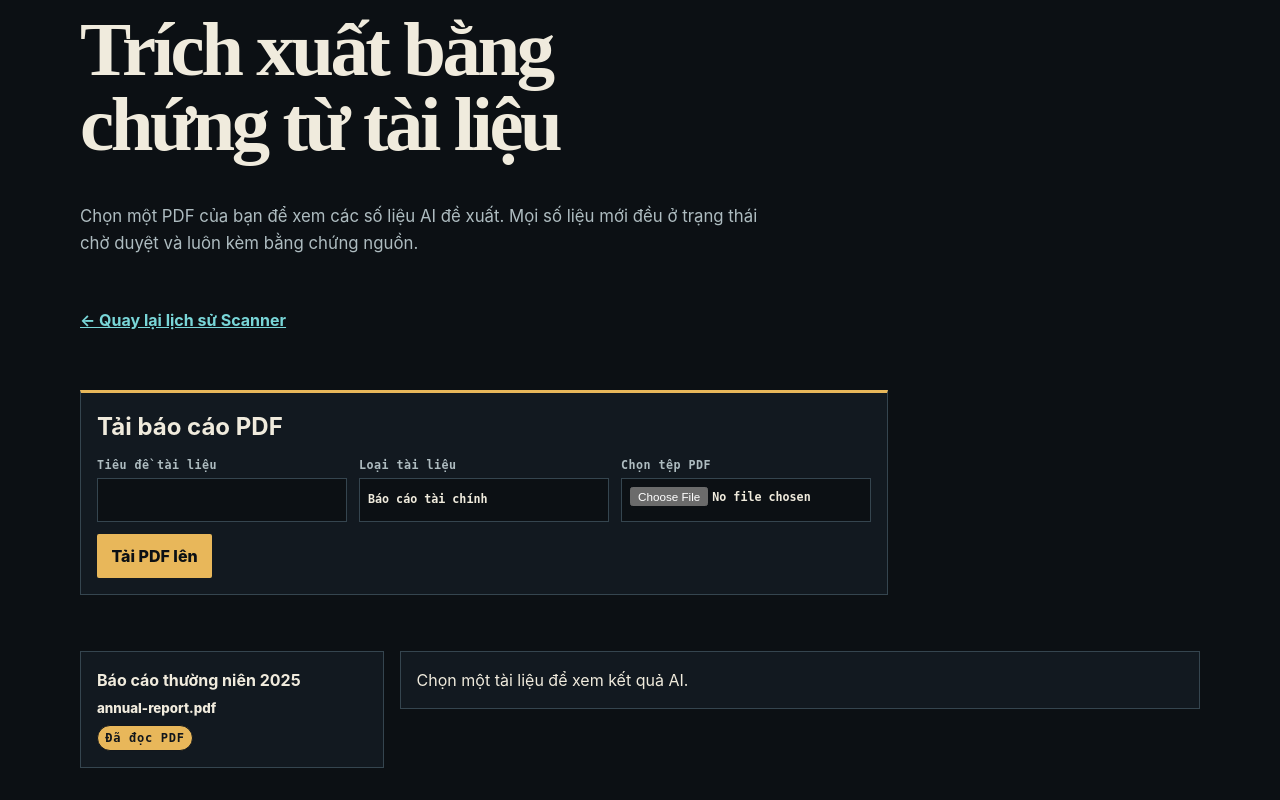
Scenario: DocumentExtractionPage › loads extracted facts while a parsed document awaits later indexing
(page scrolled)
Click the button "Báo cáo thường niên 2025 annual-report.pdf Đã đọc PDF" at (199, 680), box x1=80 y1=651 x2=384 y2=768
(page scrolled)
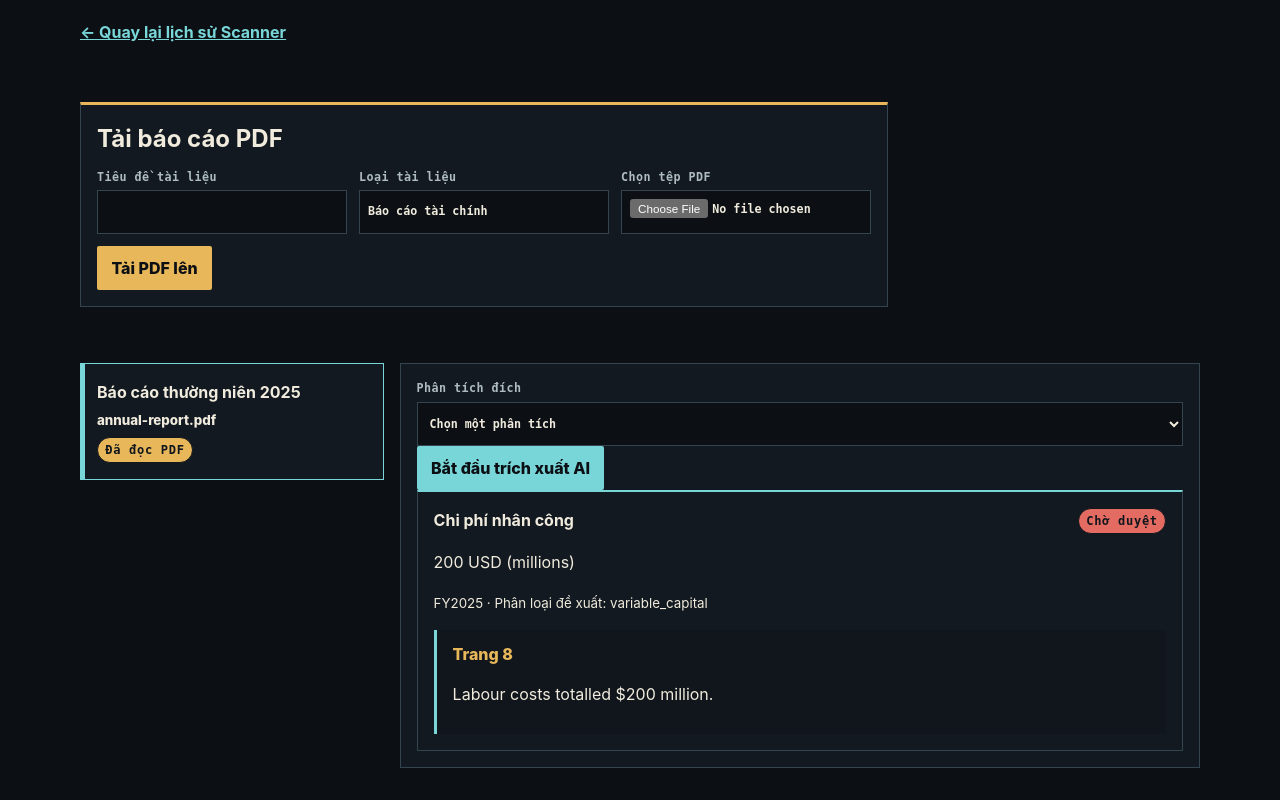
Check: the text "Chi phí nhân công" is shown, box x1=434 y1=508 x2=574 y2=534
